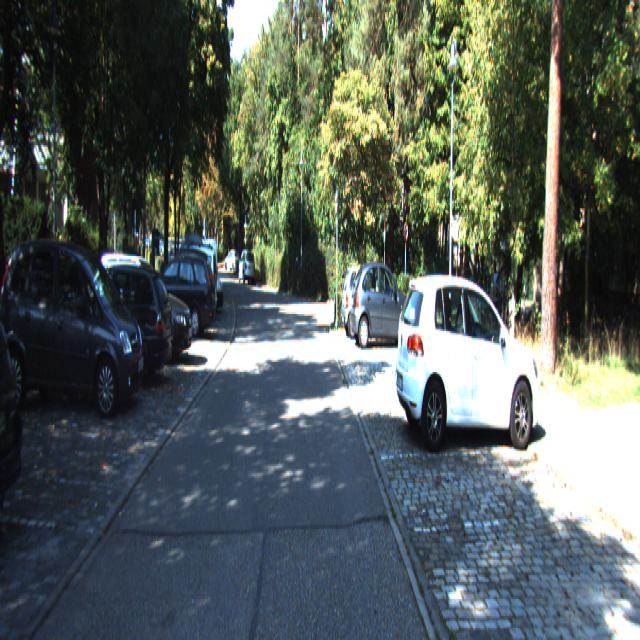Car: (0, 242, 149, 429), (392, 267, 545, 448), (51, 260, 176, 389), (92, 248, 196, 363), (0, 264, 31, 552), (142, 254, 216, 343), (349, 257, 415, 349), (341, 263, 398, 341), (238, 250, 255, 288)
